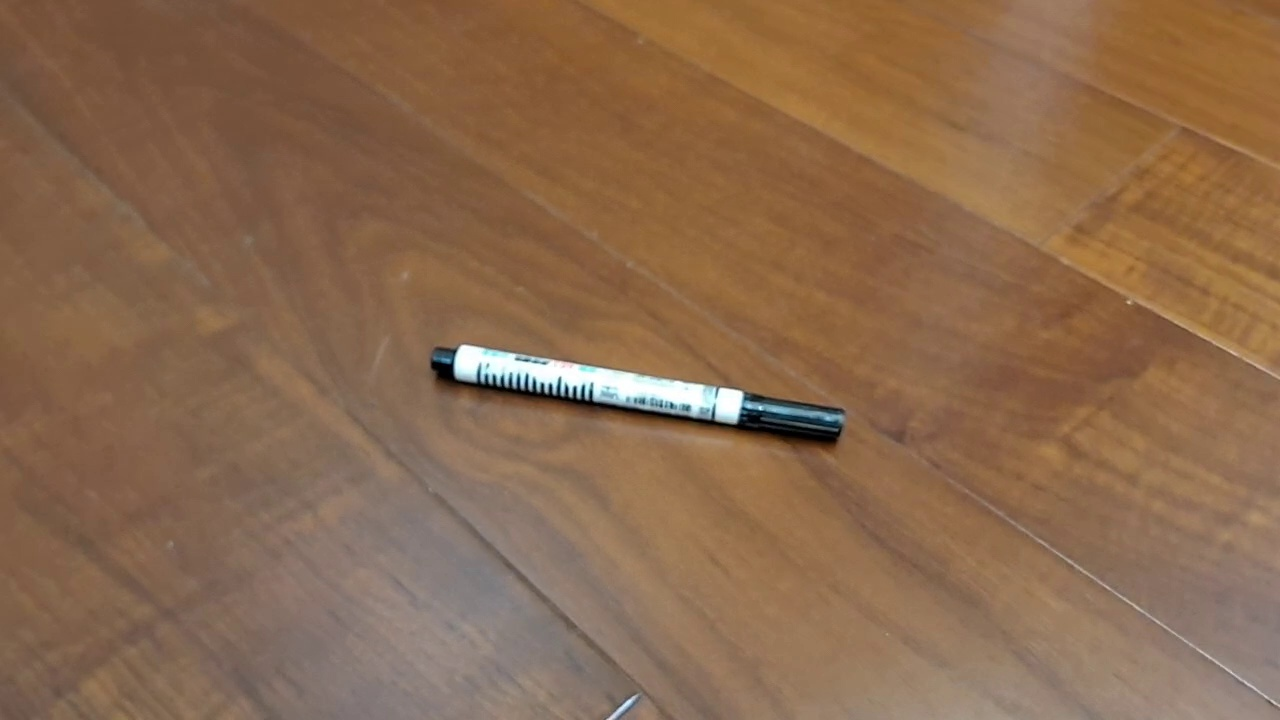pen: (430, 343, 846, 445)
